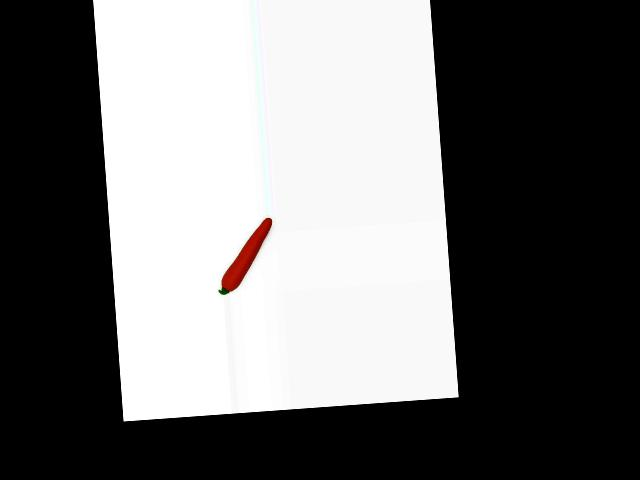carrot: (214, 216, 280, 292)
